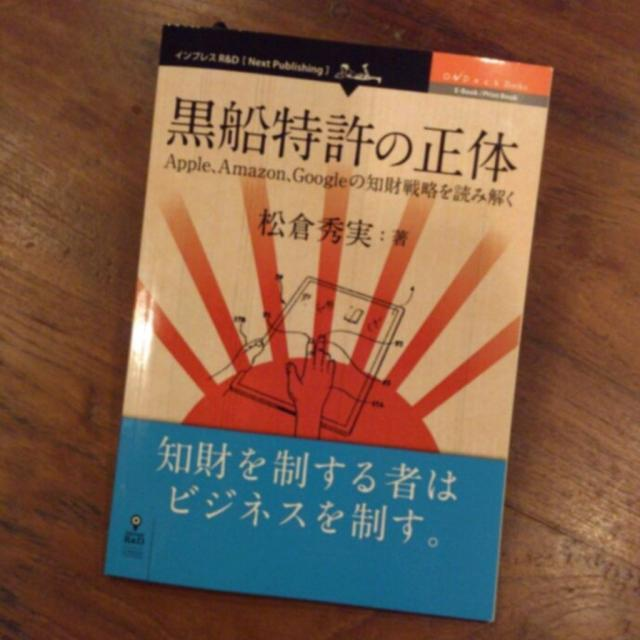book: (65, 16, 560, 620)
